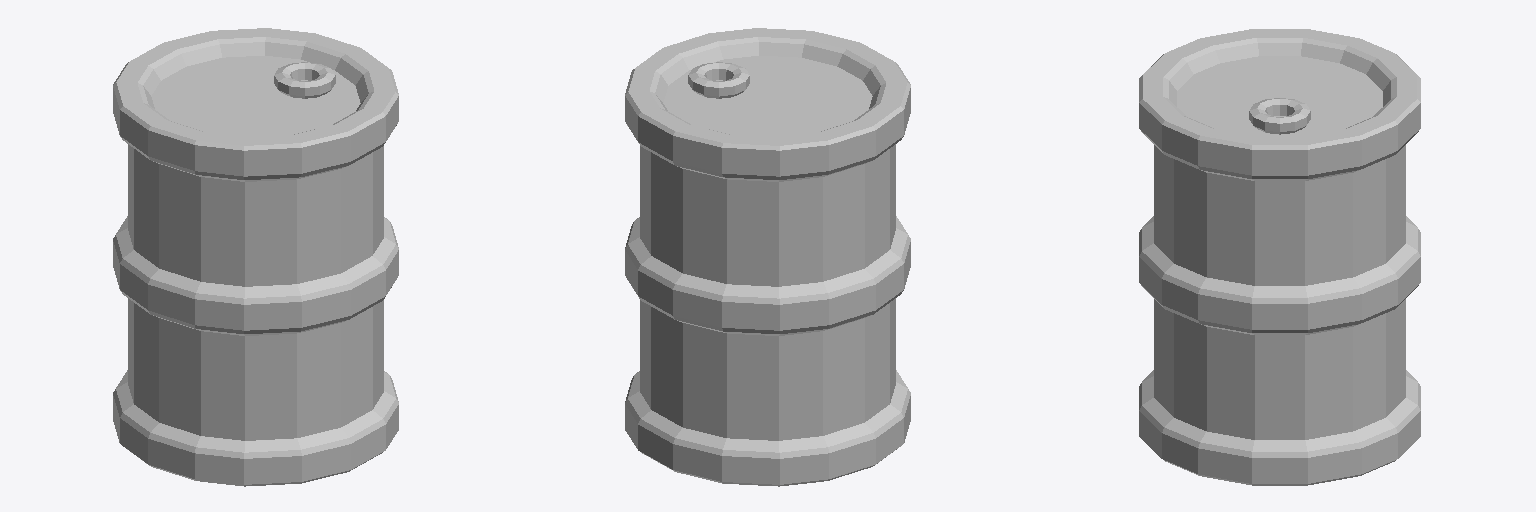
File: Fuel_B_Barrel.obj
3 views of the same model, side by side, from view 1: azimuth 30°, elevation 25°; view 2: azimuth 150°, elevation 25°; view 3: azimuth 270°, elevation 25° (orthographic).
Visible parts, largest first — view 1: Fuel_B_Barrel; view 2: Fuel_B_Barrel; view 3: Fuel_B_Barrel.
Part boxes in pixels (bbox=[...]): Fuel_B_Barrel: bbox=[113, 28, 398, 486]; Fuel_B_Barrel: bbox=[625, 28, 910, 486]; Fuel_B_Barrel: bbox=[1139, 29, 1420, 485].
Bounding box in the file's own units: 0.75 × 1.01 × 0.75.